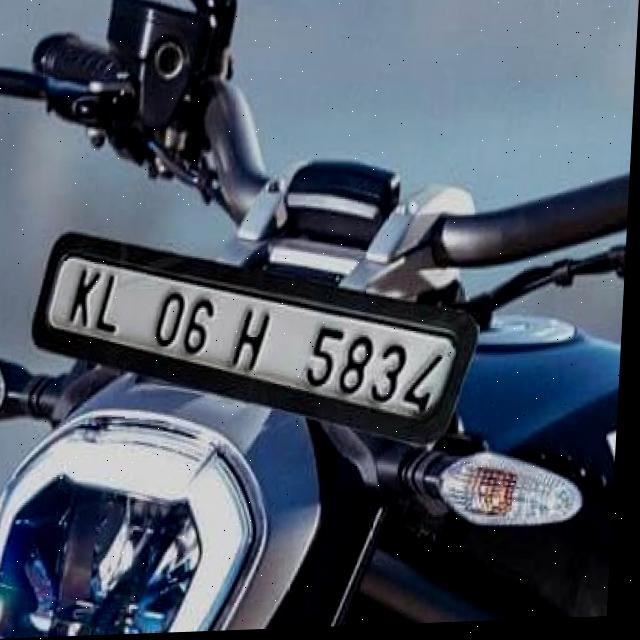plate: (29, 216, 487, 460)
